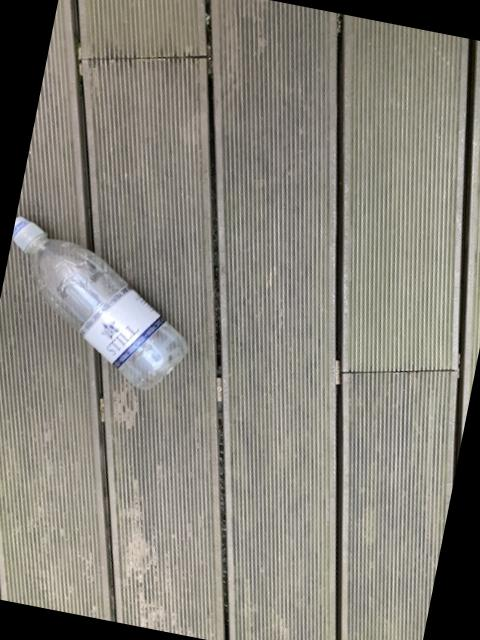plastic: (12, 219, 187, 390)
